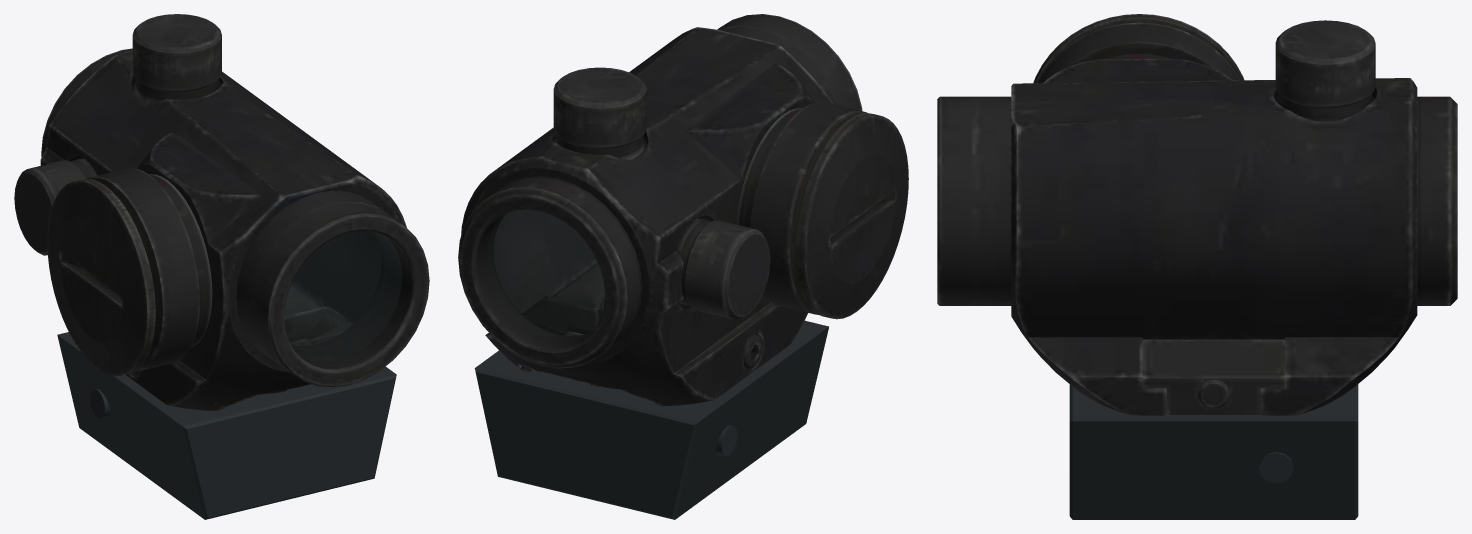
The model's file is reddot.glb.
3 views of the same model, side by side, from view 1: azimuth 30°, elevation 25°; view 2: azimuth 150°, elevation 25°; view 3: azimuth 270°, elevation 25° (orthographic). The views are drawn at different scales.
Visible parts, largest first — view 1: wRing.010__0, 일체형_장착대, wSphere.002_Scope_0; view 2: wRing.010__0, 일체형_장착대, wSphere.002_Scope_0; view 3: wRing.010__0, 일체형_장착대, 장착대_볼트.
Boxes of the visible parts, box(x1,y1,x2,y2) form: wRing.010__0: box(14, 14, 429, 410); 일체형_장착대: box(57, 332, 396, 519); wSphere.002_Scope_0: box(284, 231, 401, 360); wRing.010__0: box(458, 14, 908, 406); 일체형_장착대: box(474, 320, 828, 519); wSphere.002_Scope_0: box(487, 210, 604, 339); wRing.010__0: box(937, 14, 1457, 415); 일체형_장착대: box(1069, 384, 1358, 519); 장착대_볼트: box(1259, 452, 1293, 483).
Size of the model in its own units: 0.0482 by 0.0644 by 0.07.
3 materials, 1 textured.
